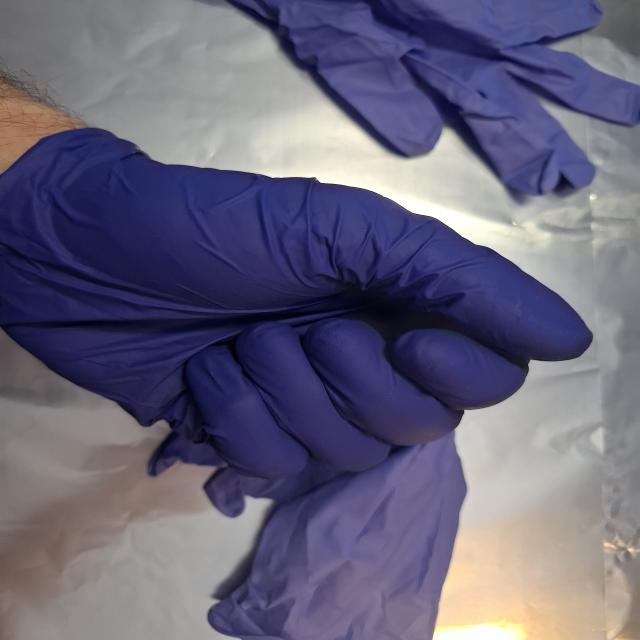glove_on: (0, 126, 601, 484)
